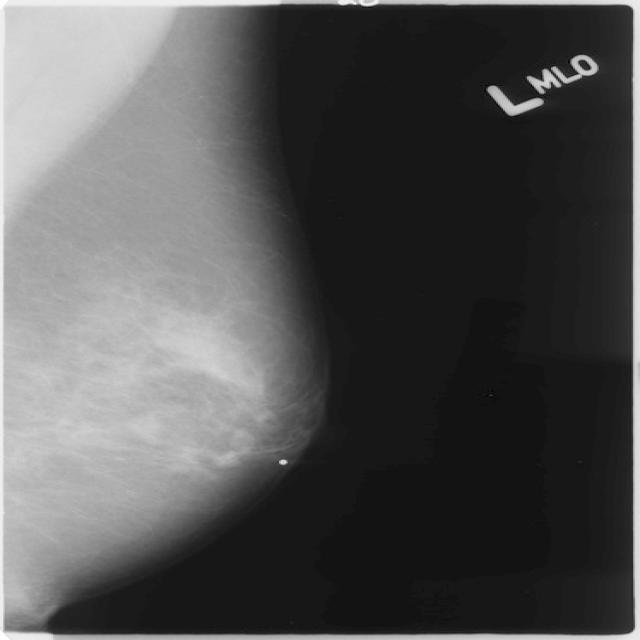tumour: (216, 430, 252, 466)
